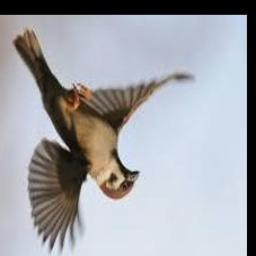Sparrow: (12, 29, 196, 256)
